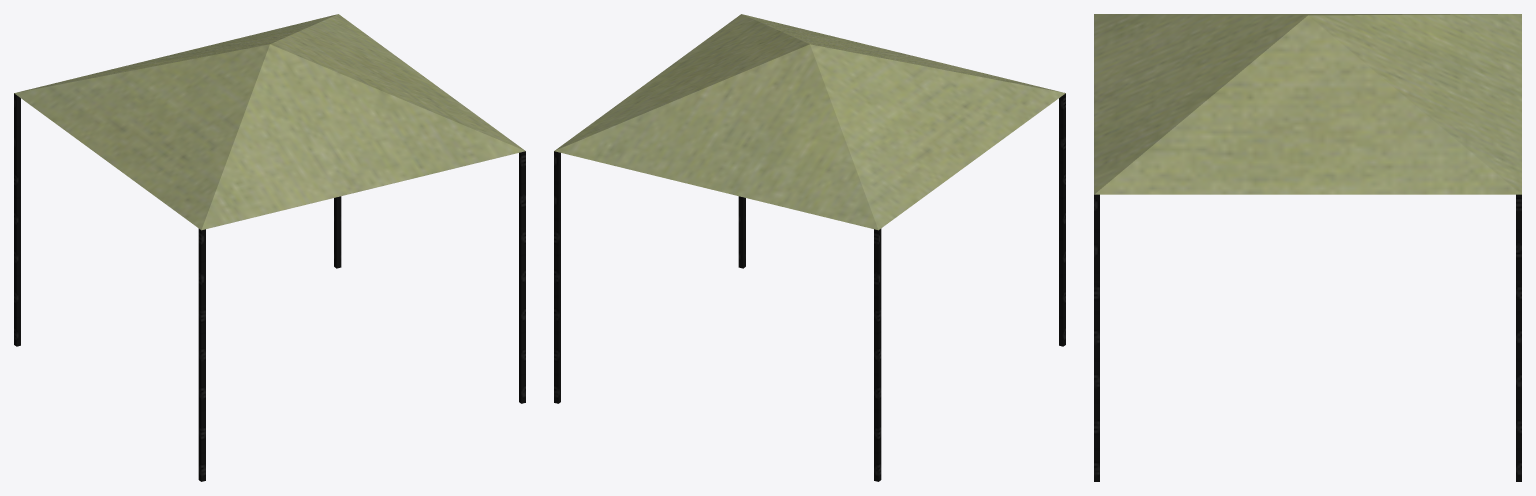
The model's file is Auning.fbx.
3 views of the same model, side by side, from view 1: azimuth 30°, elevation 25°; view 2: azimuth 150°, elevation 25°; view 3: azimuth 270°, elevation 25° (orthographic). The views are drawn at different scales.
Visible parts, largest first — view 1: Maya_File_Assets:TexturedAssetsCurrent:Black_Metal_Gazebo_01; view 2: Maya_File_Assets:TexturedAssetsCurrent:Black_Metal_Gazebo_01; view 3: Maya_File_Assets:TexturedAssetsCurrent:Black_Metal_Gazebo_01.
Part boxes in pixels (x1,y1,x2,y2): Maya_File_Assets:TexturedAssetsCurrent:Black_Metal_Gazebo_01: (14, 14, 525, 481); Maya_File_Assets:TexturedAssetsCurrent:Black_Metal_Gazebo_01: (554, 14, 1065, 481); Maya_File_Assets:TexturedAssetsCurrent:Black_Metal_Gazebo_01: (1094, 14, 1521, 481).
Size of the model in its own units: 3.47 by 3.36 by 3.47.
